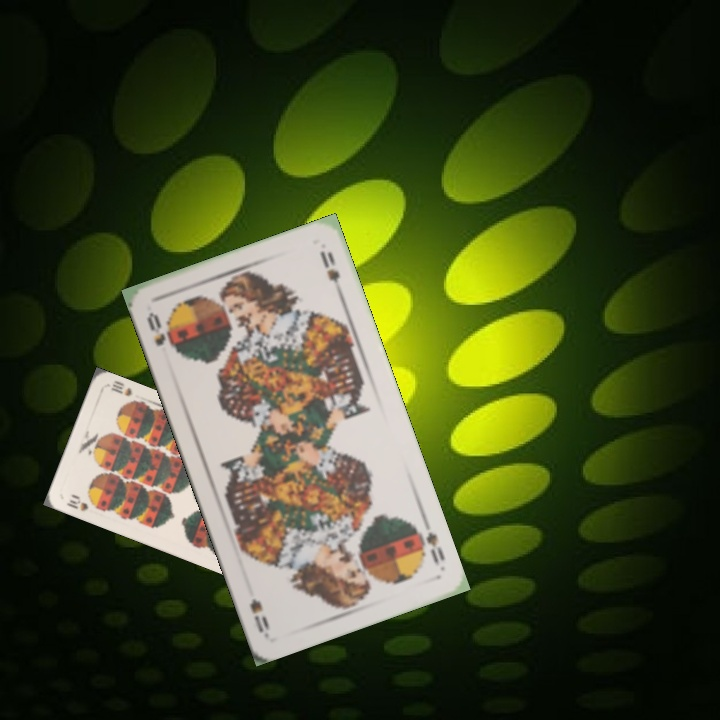S10: (62, 490, 101, 514)
SO: (410, 515, 448, 573), (142, 307, 180, 357)
